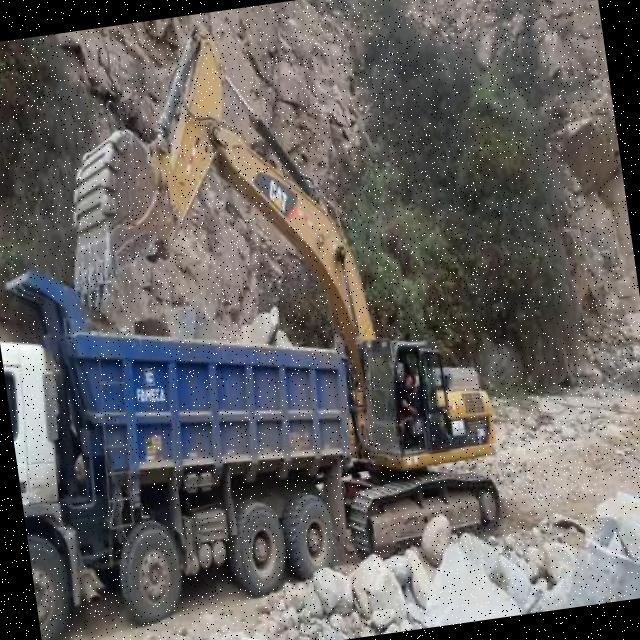Dump Truck: (0, 224, 384, 640)
Excavator: (41, 0, 510, 597)
